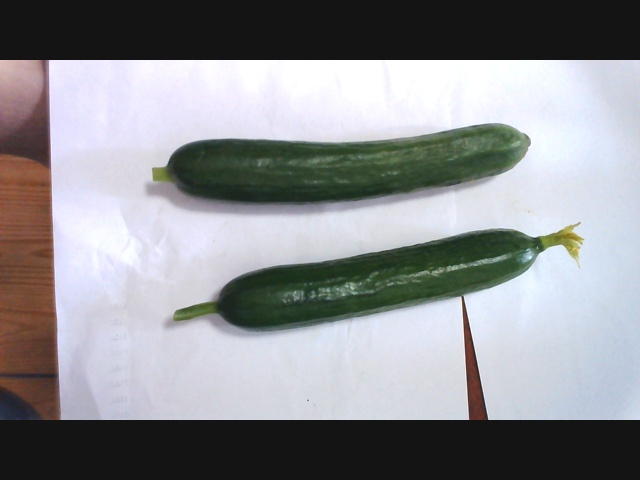cucumber: (165, 228, 567, 320), (167, 123, 538, 214)
